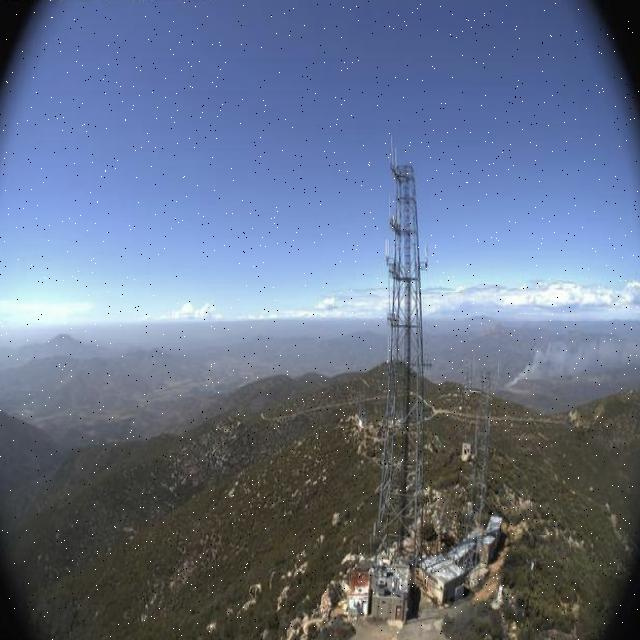smoke: (497, 333, 640, 390)
